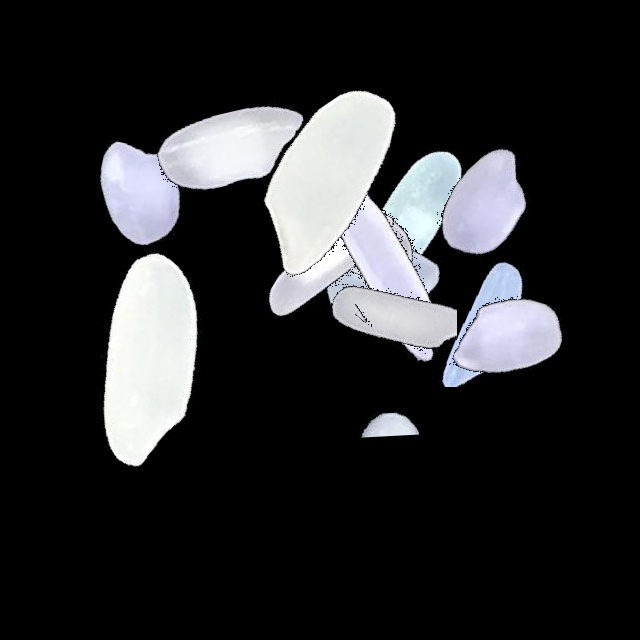Broken: (295, 230, 457, 480), (313, 235, 563, 387), (355, 168, 441, 418), (349, 269, 432, 519)
Full: (277, 103, 527, 353), (258, 157, 508, 407), (220, 108, 470, 358), (201, 138, 451, 388), (257, 142, 507, 392), (12, 71, 262, 321), (361, 81, 611, 331), (386, 214, 636, 464), (204, 52, 454, 302), (109, 23, 359, 273), (16, 233, 266, 483)
